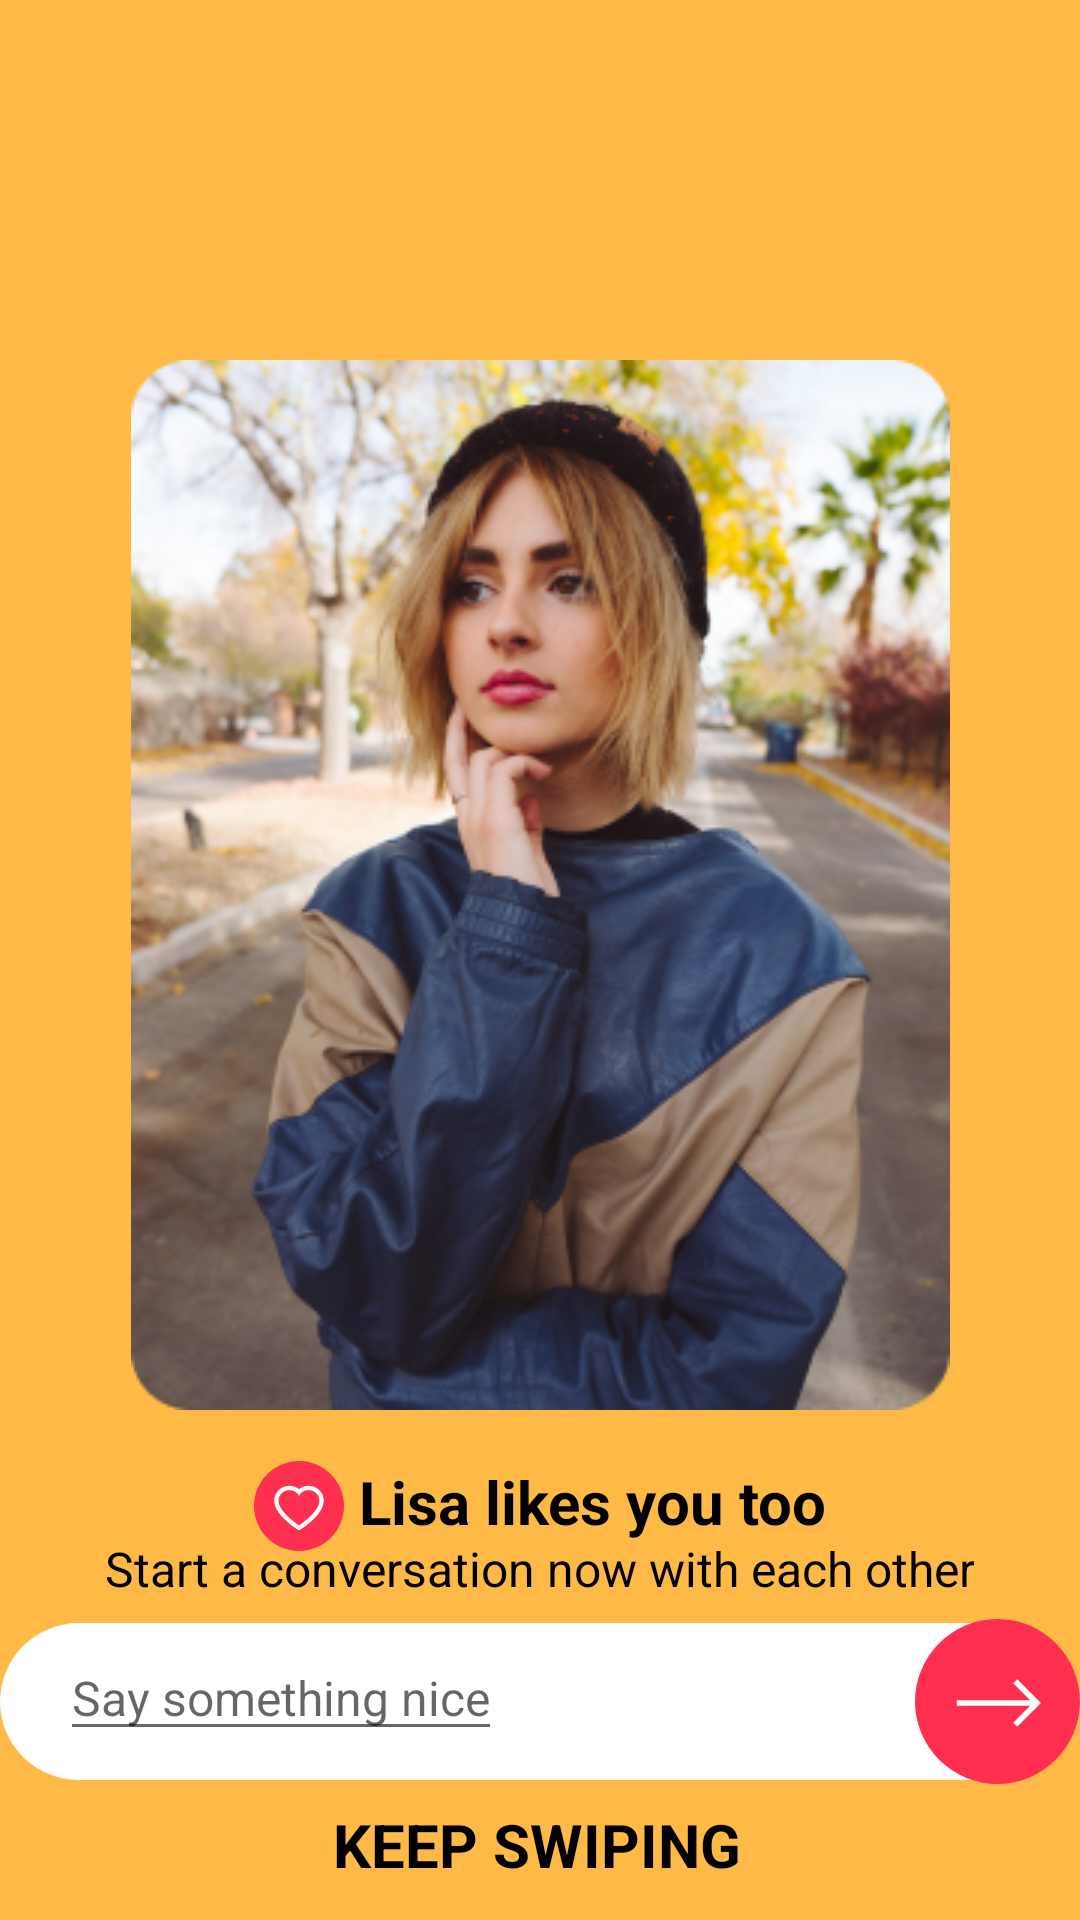

Icons on this 1080w x 1920h Android screen, each with the point to tap as (x,y):
matchlike: (299,1506)
